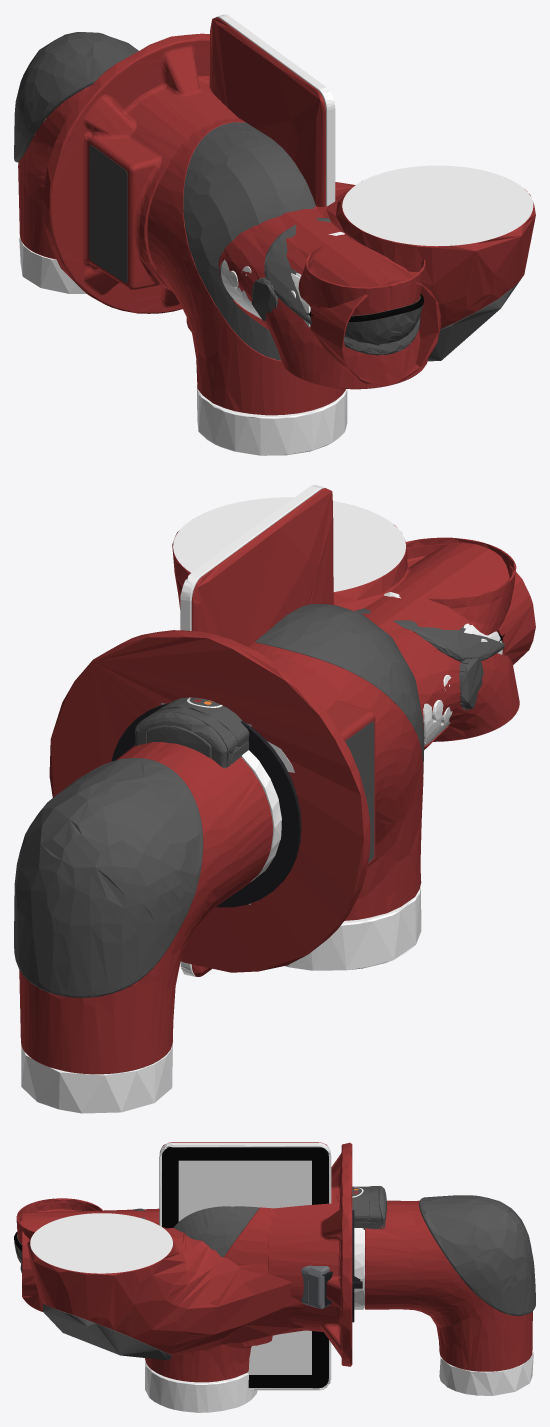
Rendered from arm.glb.
The picture shows the model from 3 angles, top to bottom: view 1: azimuth 30°, elevation 25°; view 2: azimuth 150°, elevation 25°; view 3: azimuth 270°, elevation 25°; orthographic projection. The views are drawn at different scales.
Visible parts, largest first — view 1: b4, b2, b1, b3, b6, b5, b7; view 2: b6, b1, b4, b2, b3, b5, b9, b11, b7; view 3: b2, b6, b3, b4, b1, b11, b9, b7.
Boxes of the visible parts, x1=… form: b4: x1=147, y1=118, x2=347, y2=455; b2: x1=218, y1=165, x2=535, y2=385; b1: x1=42, y1=33, x2=238, y2=313; b3: x1=209, y1=14, x2=344, y2=235; b6: x1=14, y1=32, x2=138, y2=293; b5: x1=222, y1=218, x2=428, y2=389; b7: x1=298, y1=245, x2=425, y2=345; b6: x1=14, y1=742, x2=281, y2=1113; b1: x1=49, y1=630, x2=375, y2=972; b4: x1=248, y1=604, x2=424, y2=970; b2: x1=172, y1=497, x2=535, y2=749; b3: x1=180, y1=484, x2=400, y2=976; b5: x1=355, y1=608, x2=519, y2=741; b9: x1=135, y1=697, x2=249, y2=768; b11: x1=111, y1=703, x2=301, y2=907; b7: x1=406, y1=537, x2=516, y2=641; b2: x1=22, y1=1208, x2=305, y2=1360; b6: x1=354, y1=1195, x2=535, y2=1395; b3: x1=159, y1=1142, x2=331, y2=1390; b4: x1=145, y1=1206, x2=274, y2=1412; b1: x1=268, y1=1142, x2=352, y2=1366; b11: x1=301, y1=1210, x2=362, y2=1322; b9: x1=352, y1=1186, x2=386, y2=1229; b7: x1=14, y1=1198, x2=103, y2=1264.
Bounding box in the file's own units: 0.2544 × 0.268 × 0.4936.
